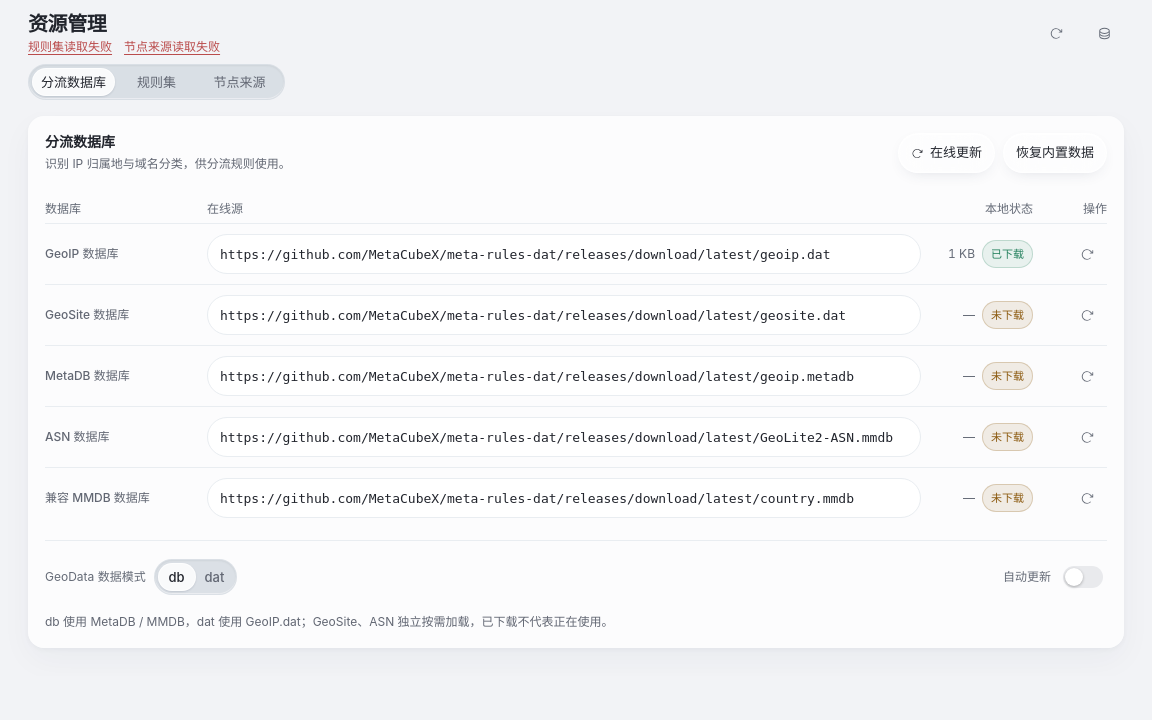
Scenario: 缺少提供者字段仍报告真实格式错误，不把损坏响应当作空列表
Expected: the element with class "dp-resource-summary" shows "规则集读取失败", [28,40,220,54]
Step 1. Click the tab "规则集" → [156, 82], box [115,68,198,96]
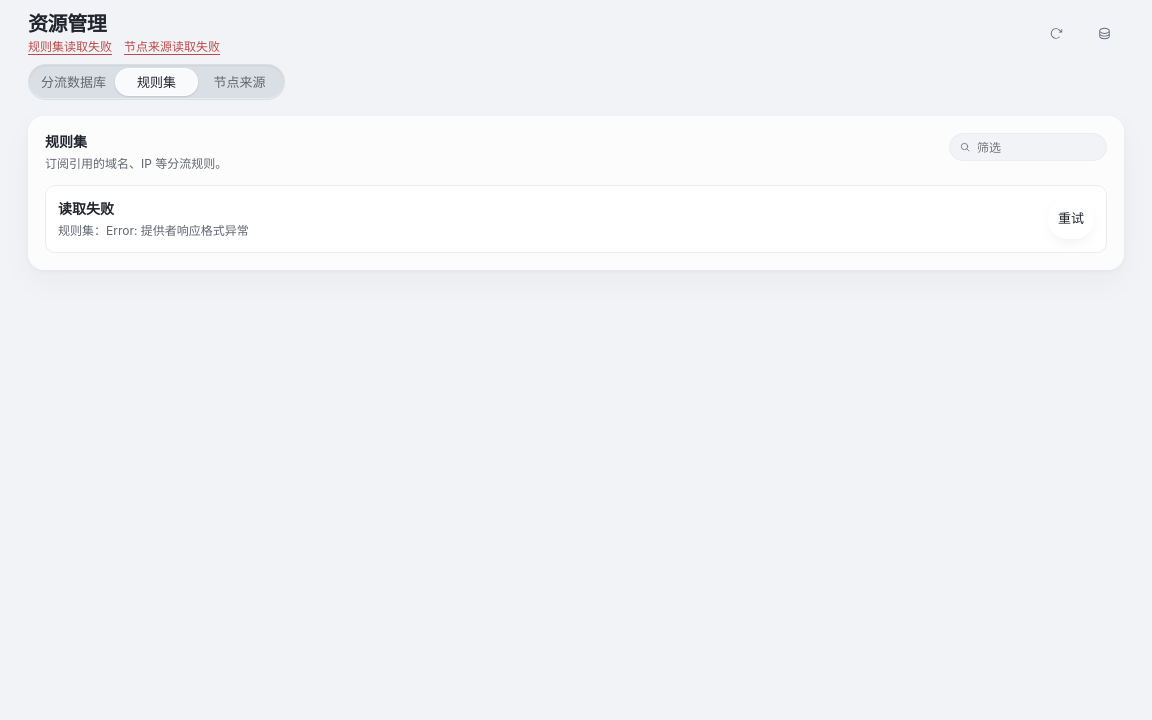
Expected: the message with class "read-error" shows "格式异常", [58,223,249,238]
